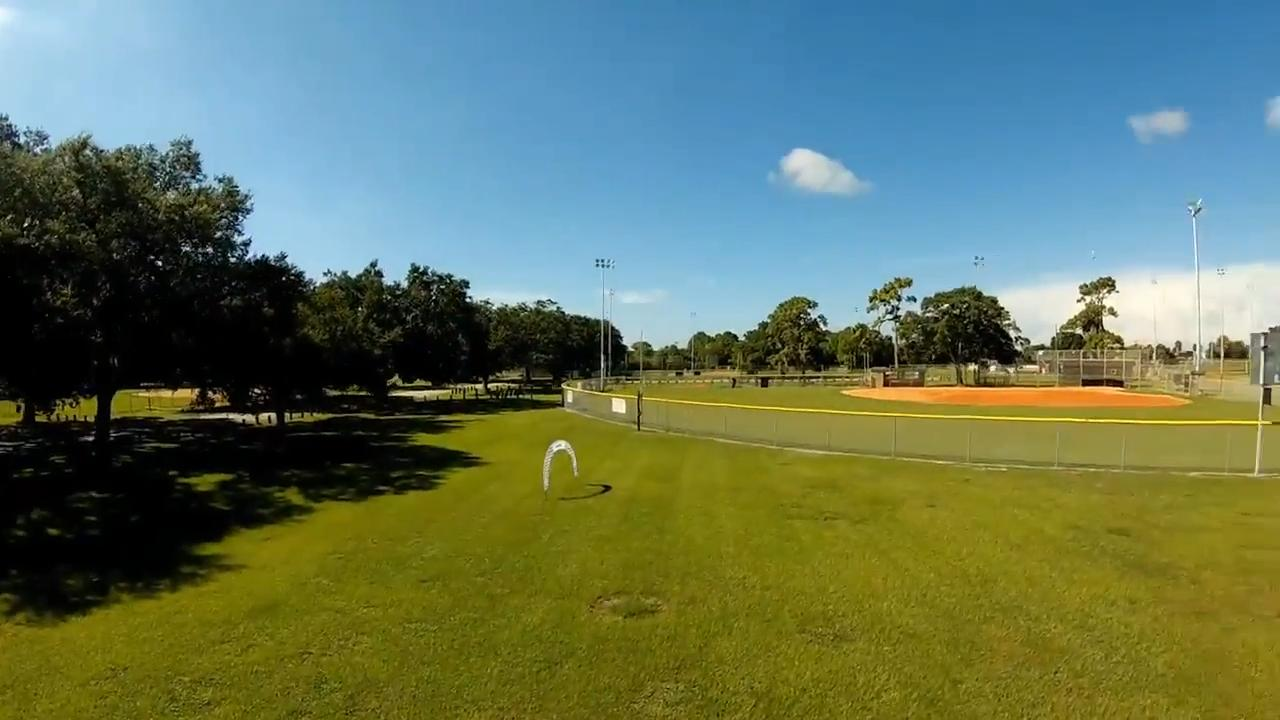gate: (541, 440, 582, 498)
